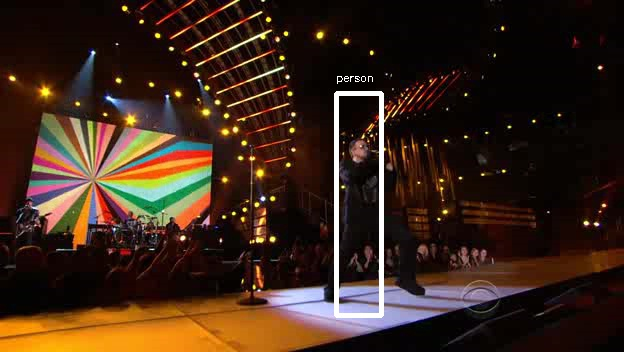person: (335, 135, 399, 248), (332, 135, 396, 248), (338, 135, 402, 248), (335, 132, 399, 245), (335, 138, 399, 251)
target_negative: (461, 322, 540, 351), (531, 251, 552, 337), (446, 226, 486, 264), (387, 293, 601, 294), (191, 324, 256, 327), (623, 135, 624, 185)
